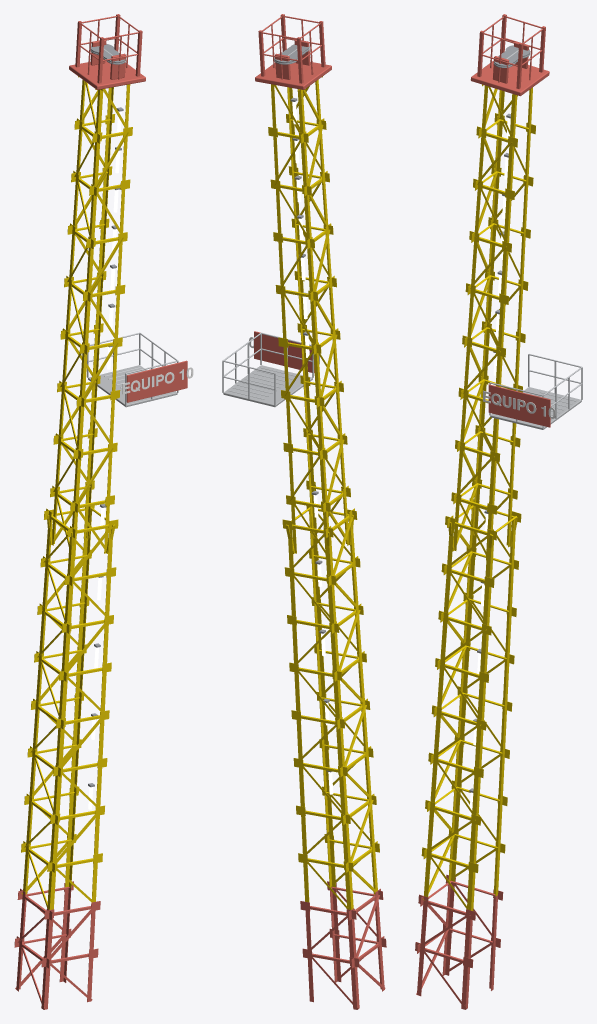
File: sk575_mastil.glb
3 renders of one model, left to right at view 1: azimuth 30°, elevation 25°; view 2: azimuth 150°, elevation 25°; view 3: azimuth 330°, elevation 25°, orthographic. The views are drawn at different scales.
Visible parts, largest first — view 1: sk575_mastil_amarillo, sk575_mastil_rojo, sk575_enganche_rojo, sk575_mastil_luz, sk575_enganche_grating, sk575_enganche_acero, sk575_mastil_acero_oscuro, sk575_enganche_blanco; view 2: sk575_mastil_amarillo, sk575_mastil_rojo, sk575_enganche_grating, sk575_enganche_acero, sk575_enganche_rojo, sk575_mastil_luz, sk575_mastil_acero_oscuro; view 3: sk575_mastil_amarillo, sk575_mastil_rojo, sk575_enganche_rojo, sk575_enganche_acero, sk575_enganche_grating, sk575_mastil_luz, sk575_mastil_acero_oscuro, sk575_enganche_blanco.
Boxes of the visible parts, left/top/right/bottom form: sk575_mastil_amarillo: left=21, top=76, right=132, bottom=909; sk575_mastil_rojo: left=14, top=14, right=145, bottom=1009; sk575_enganche_rojo: left=126, top=360, right=187, bottom=402; sk575_mastil_luz: left=88, top=111, right=121, bottom=809; sk575_enganche_grating: left=88, top=365, right=177, bottom=407; sk575_enganche_acero: left=87, top=332, right=178, bottom=405; sk575_mastil_acero_oscuro: left=88, top=43, right=125, bottom=787; sk575_enganche_blanco: left=122, top=367, right=193, bottom=394; sk575_mastil_amarillo: left=268, top=76, right=379, bottom=909; sk575_mastil_rojo: left=255, top=14, right=386, bottom=1009; sk575_enganche_grating: left=223, top=365, right=312, bottom=407; sk575_enganche_acero: left=222, top=332, right=313, bottom=405; sk575_enganche_rojo: left=254, top=331, right=314, bottom=372; sk575_mastil_luz: left=292, top=101, right=333, bottom=794; sk575_mastil_acero_oscuro: left=274, top=44, right=331, bottom=772; sk575_mastil_amarillo: left=421, top=84, right=535, bottom=910; sk575_mastil_rojo: left=415, top=14, right=549, bottom=1009; sk575_enganche_rojo: left=488, top=384, right=550, bottom=427; sk575_enganche_acero: left=489, top=354, right=582, bottom=428; sk575_enganche_grating: left=490, top=387, right=581, bottom=429; sk575_mastil_luz: left=469, top=118, right=510, bottom=814; sk575_mastil_acero_oscuro: left=469, top=45, right=530, bottom=792; sk575_enganche_blanco: left=483, top=390, right=555, bottom=418.
Bounding box in the file's own units: 5.27 × 33.44 × 2.54.
